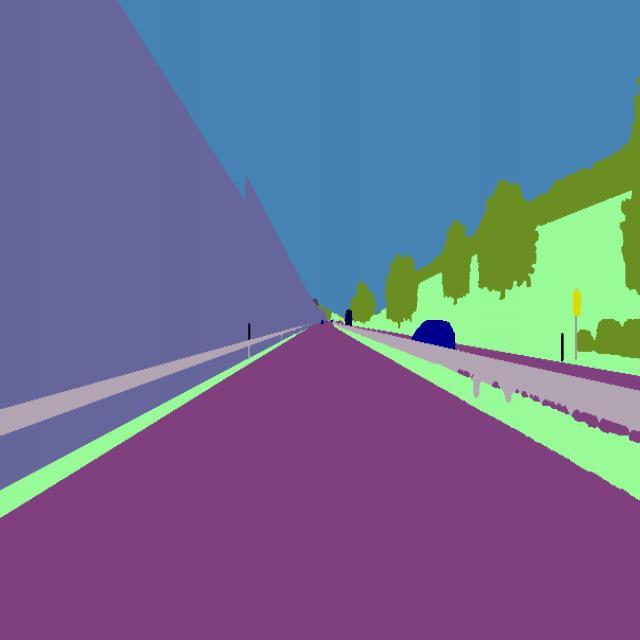safe: (408, 315, 462, 358), (344, 306, 354, 331), (318, 317, 328, 327)
